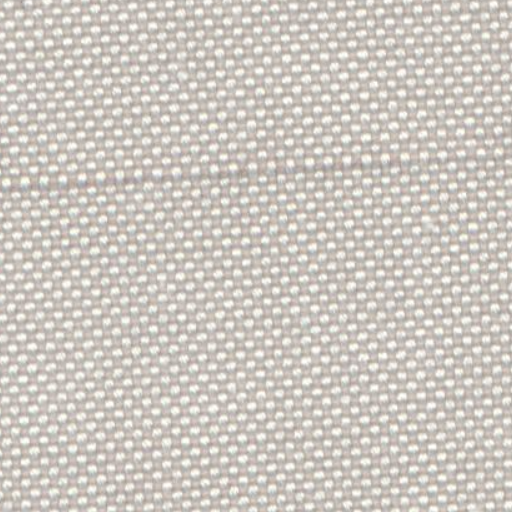TuoSha: (12, 134, 501, 200)
